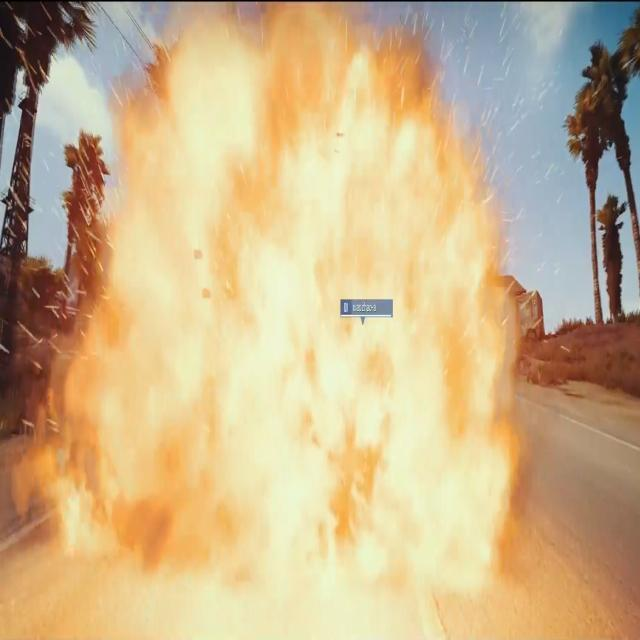fire: (10, 3, 535, 616)
